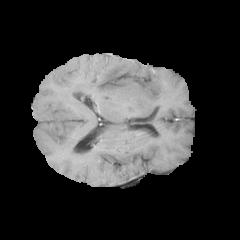glioma: (64, 60, 157, 104)
